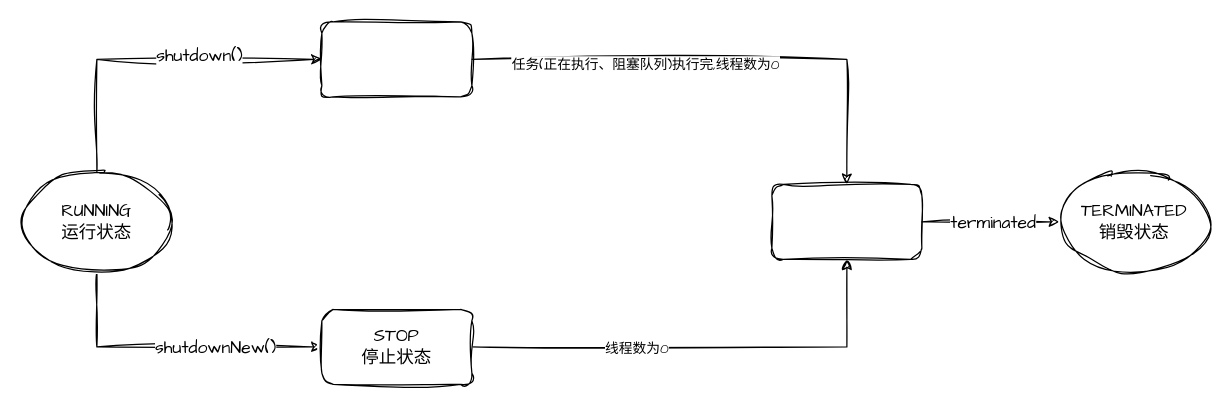
Some shapes in this 1231 by 406 pixel diagram are drawn without their labels. Each missing label, with the centre of its shape:
RIDYING 整理状态: the point at 846,221
SHUTDOWN 关闭状态: the point at 396,59
